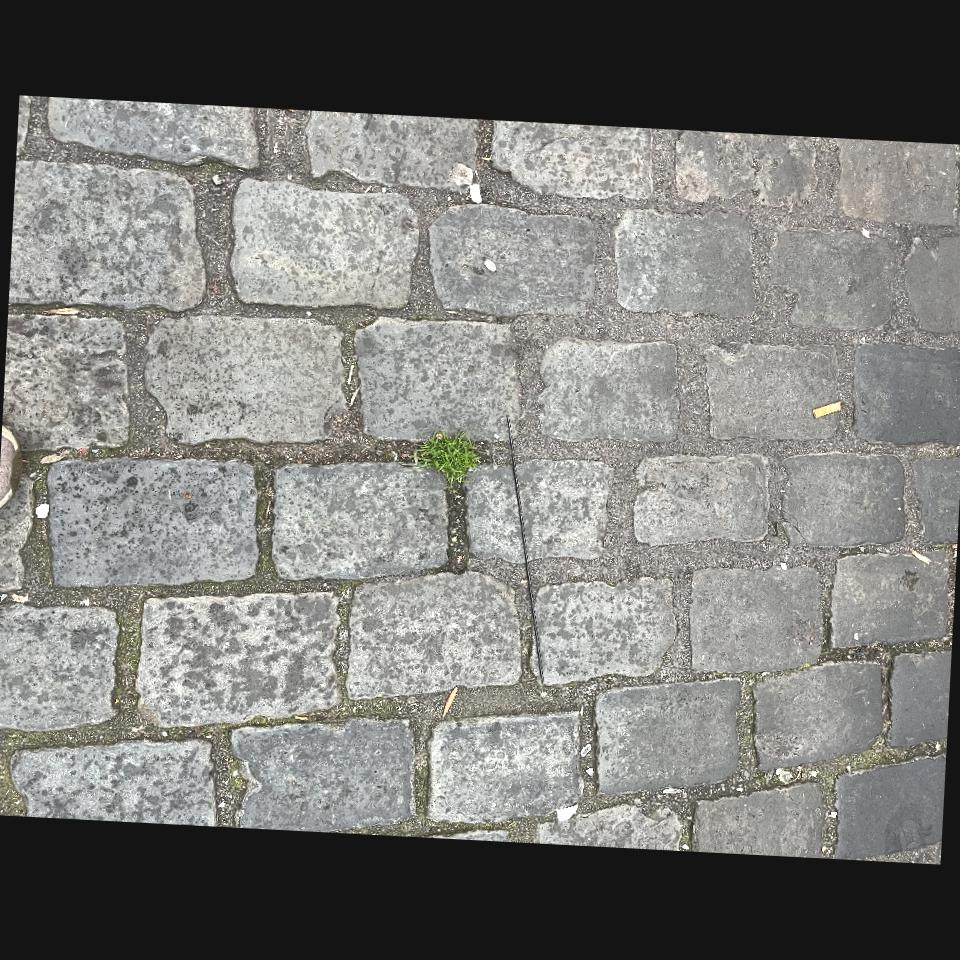weed: (535, 608, 596, 681)
